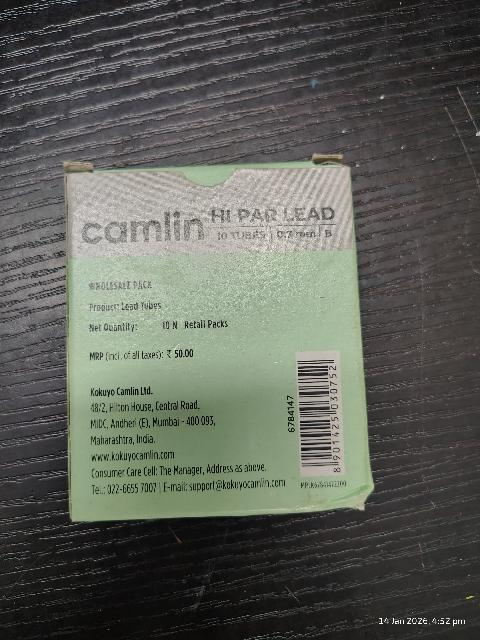camlin lids: (64, 168, 374, 520)
